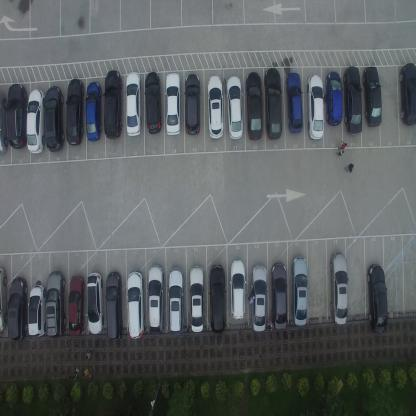car: (366, 262, 388, 334), (5, 82, 28, 150), (341, 64, 362, 134), (329, 250, 348, 327), (103, 69, 123, 140), (45, 269, 65, 340), (126, 271, 146, 340), (264, 67, 282, 141), (44, 86, 64, 152), (7, 276, 27, 342), (65, 77, 84, 146), (362, 65, 382, 130), (105, 270, 123, 342), (290, 255, 308, 326), (245, 70, 263, 141), (208, 263, 226, 334), (306, 73, 324, 141), (269, 262, 287, 330), (26, 86, 44, 154), (147, 264, 164, 335), (284, 72, 303, 135), (250, 263, 267, 333), (398, 62, 416, 128), (188, 265, 205, 334), (206, 75, 224, 140), (86, 272, 104, 335), (226, 75, 243, 140), (184, 72, 201, 137), (168, 266, 184, 335), (145, 71, 162, 135), (125, 70, 141, 138), (67, 273, 84, 337), (27, 283, 46, 340), (164, 71, 180, 137), (85, 80, 102, 142), (324, 69, 342, 127), (230, 258, 246, 321), (0, 89, 7, 158), (0, 266, 7, 335)
